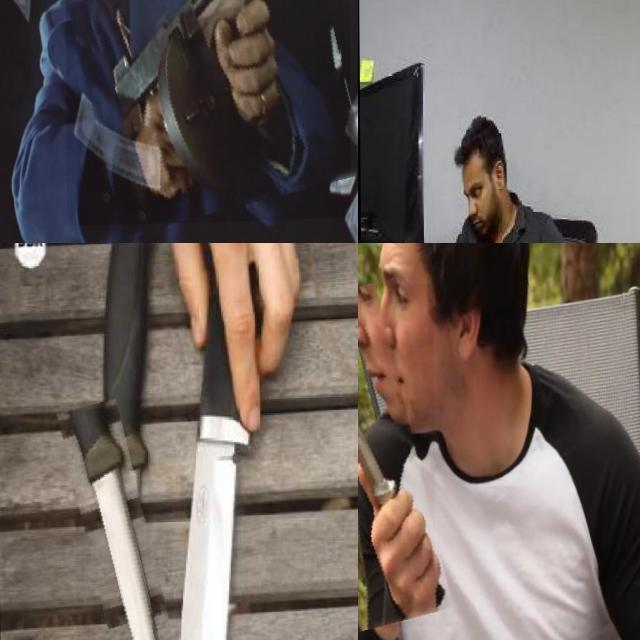-: (163, 246, 308, 640), (358, 286, 434, 631), (74, 399, 173, 640)
gun-knife-thesis - v11 Yolov5 augmented: (64, 0, 350, 228)
